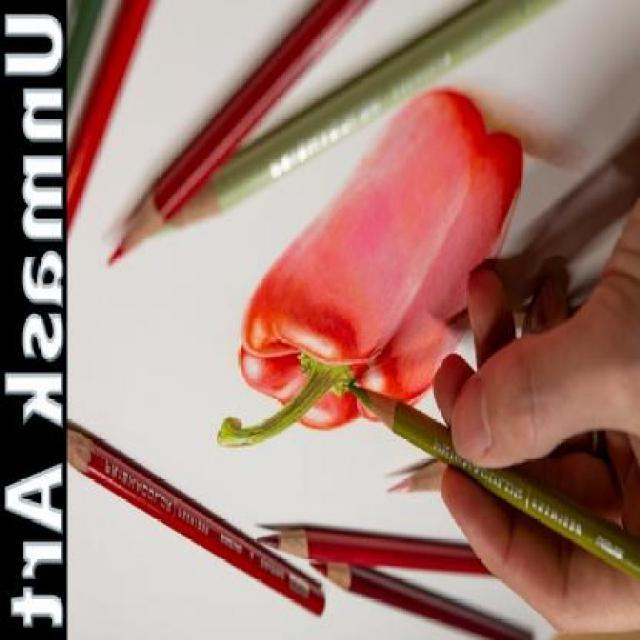pencil: (99, 178, 187, 288), (342, 359, 418, 456), (250, 506, 334, 574)
